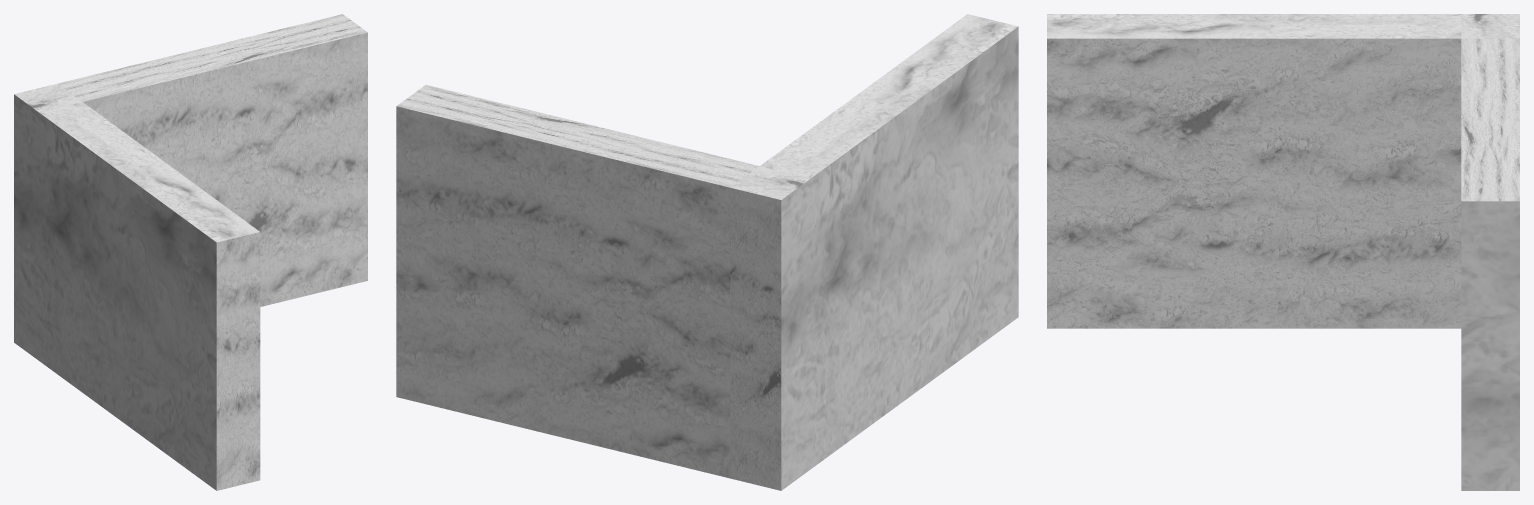
File: ParedeAgua.fbx
3 views of the same model, side by side, from view 1: azimuth 30°, elevation 25°; view 2: azimuth 150°, elevation 25°; view 3: azimuth 270°, elevation 25° (orthographic). The views are drawn at different scales.
Visible parts, largest first — view 1: Cube; view 2: Cube; view 3: Cube.
Boxes of the visible parts, x1,y1,x2,y2 form: Cube: (14,14,367,490); Cube: (396,14,1018,490); Cube: (1047,14,1519,490).
Bounding box in the file's own units: 277 × 200 × 296.
Materials: 2 (1 with a texture image).
